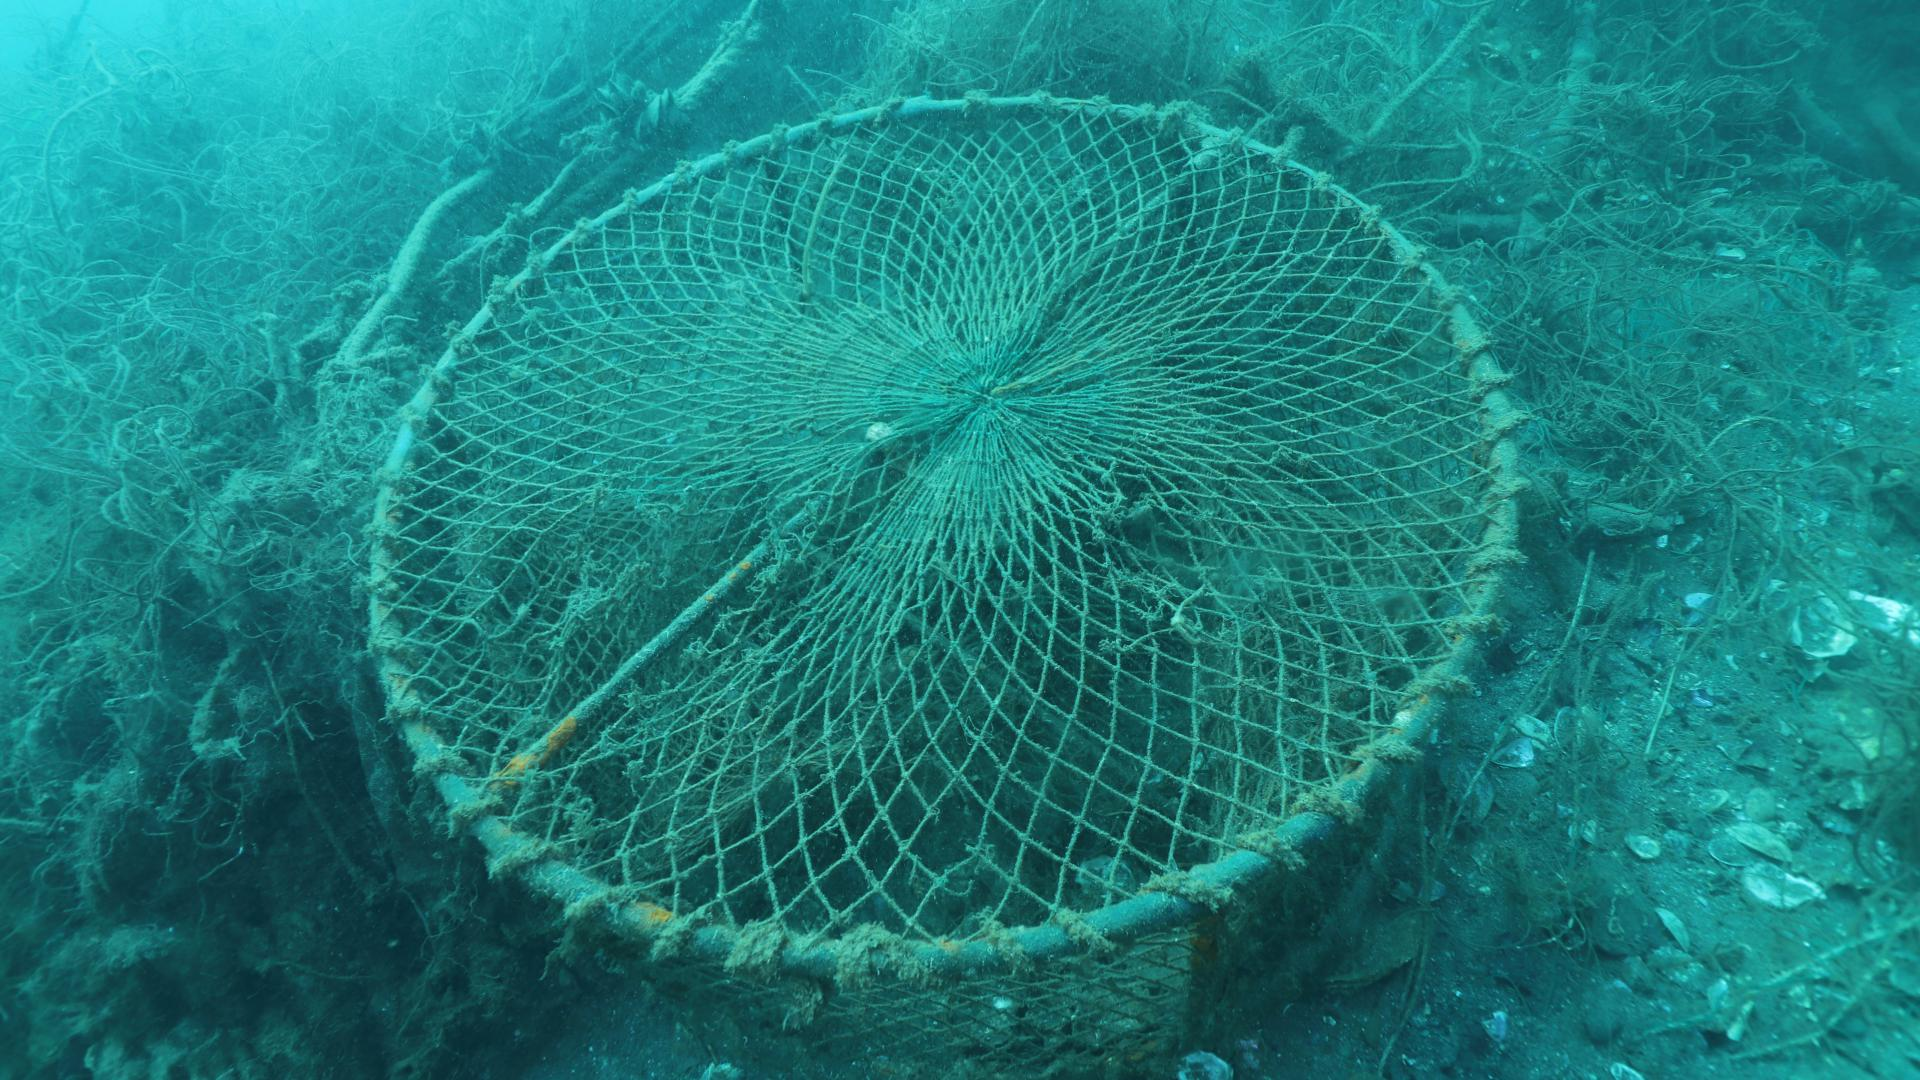circular fish trap: (365, 91, 1526, 1080)
